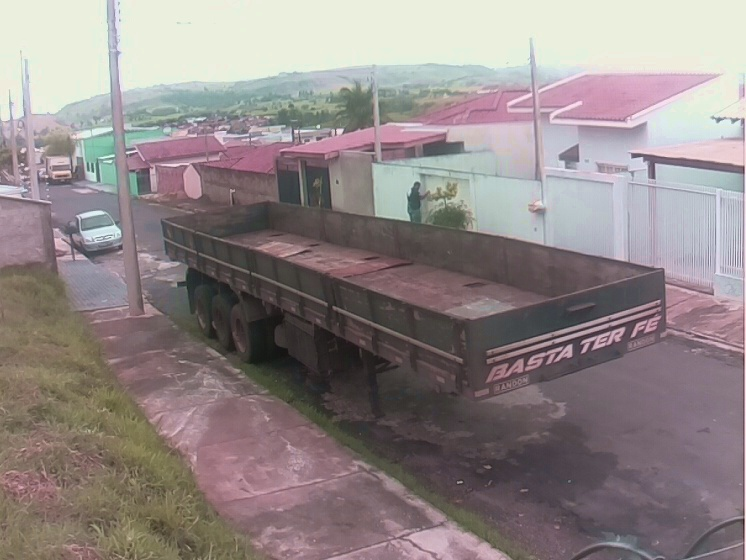person: (404, 181, 430, 223)
